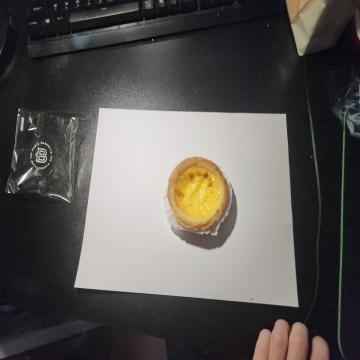EggTart: (168, 155, 229, 230)
